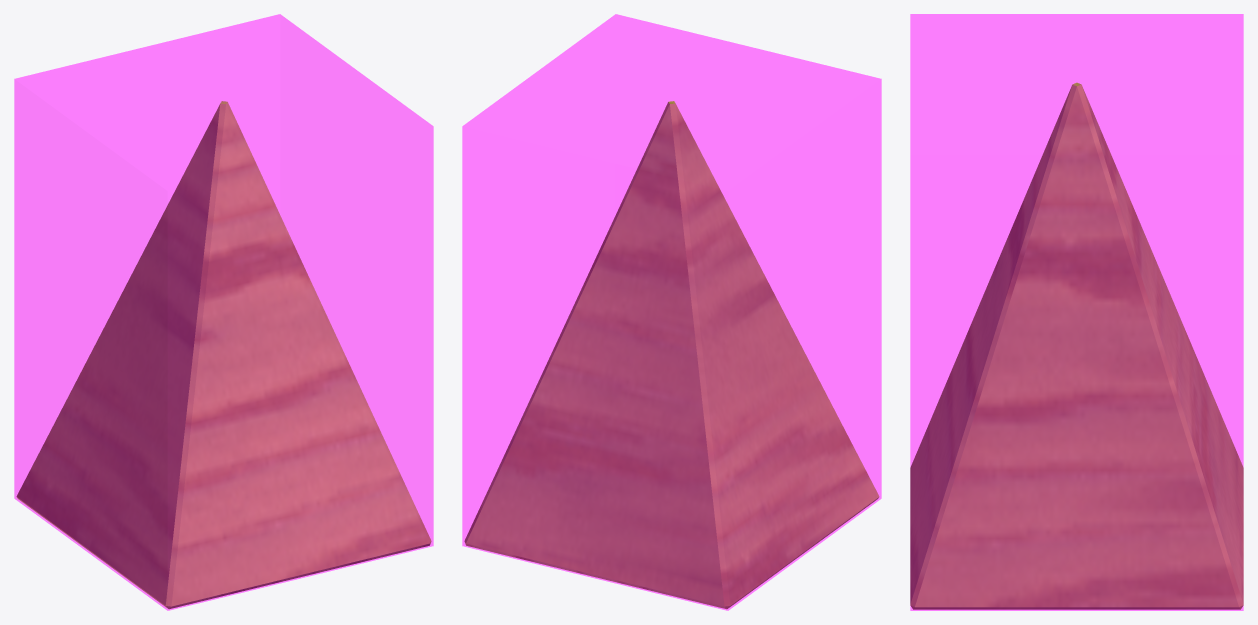
Rendered from tumiki_D.fbx.
3 views of the same model, side by side, from view 1: azimuth 30°, elevation 25°; view 2: azimuth 150°, elevation 25°; view 3: azimuth 270°, elevation 25° (orthographic). The views are drawn at different scales.
Parts seen in each view (by area): view 1: boundingbox, tumiki_D; view 2: boundingbox, tumiki_D; view 3: boundingbox, tumiki_D.
Part boxes in pixels (box(x1,y1,x2,y2)): boundingbox: box(14, 14, 433, 610); tumiki_D: box(16, 101, 431, 609); boundingbox: box(462, 14, 881, 610); tumiki_D: box(464, 101, 879, 609); boundingbox: box(910, 14, 1243, 610); tumiki_D: box(910, 82, 1243, 609).
Size of the model in its own units: 2.58 by 3.89 by 2.58.
2 materials, 1 textured.
